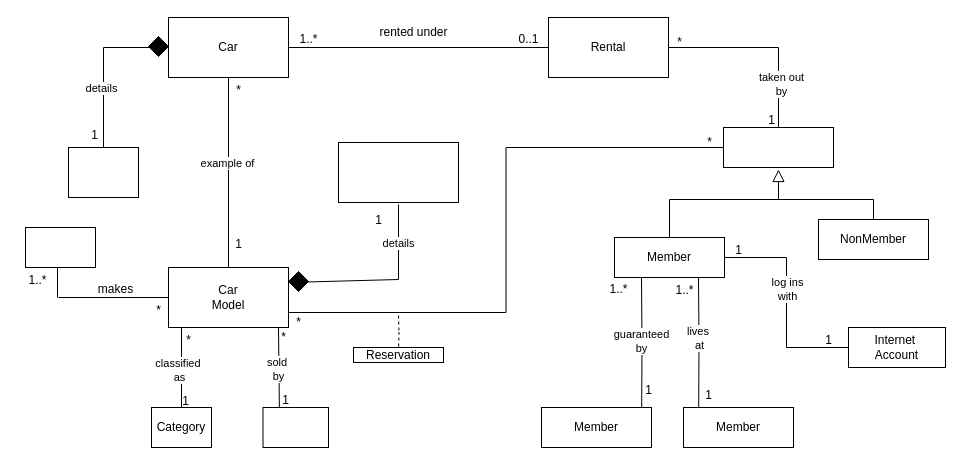
Image size: 963x465. Some labels were removed from this diagram. Here are the shapes that lost their labels. From the top down, the box of each, then its label:
(722, 126, 834, 168): Customer
(68, 146, 138, 198): Car Details
(338, 142, 458, 202): Car Model Details
(24, 226, 96, 268): Make
(262, 406, 328, 448): Vendor
